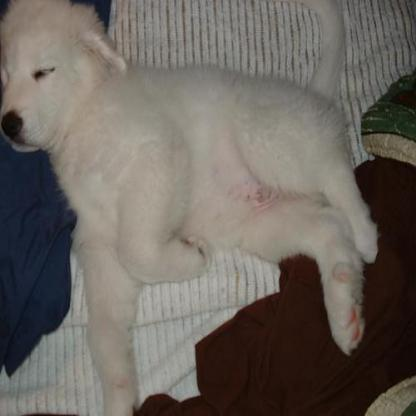Great_Pyrenees: (0, 0, 375, 414)
